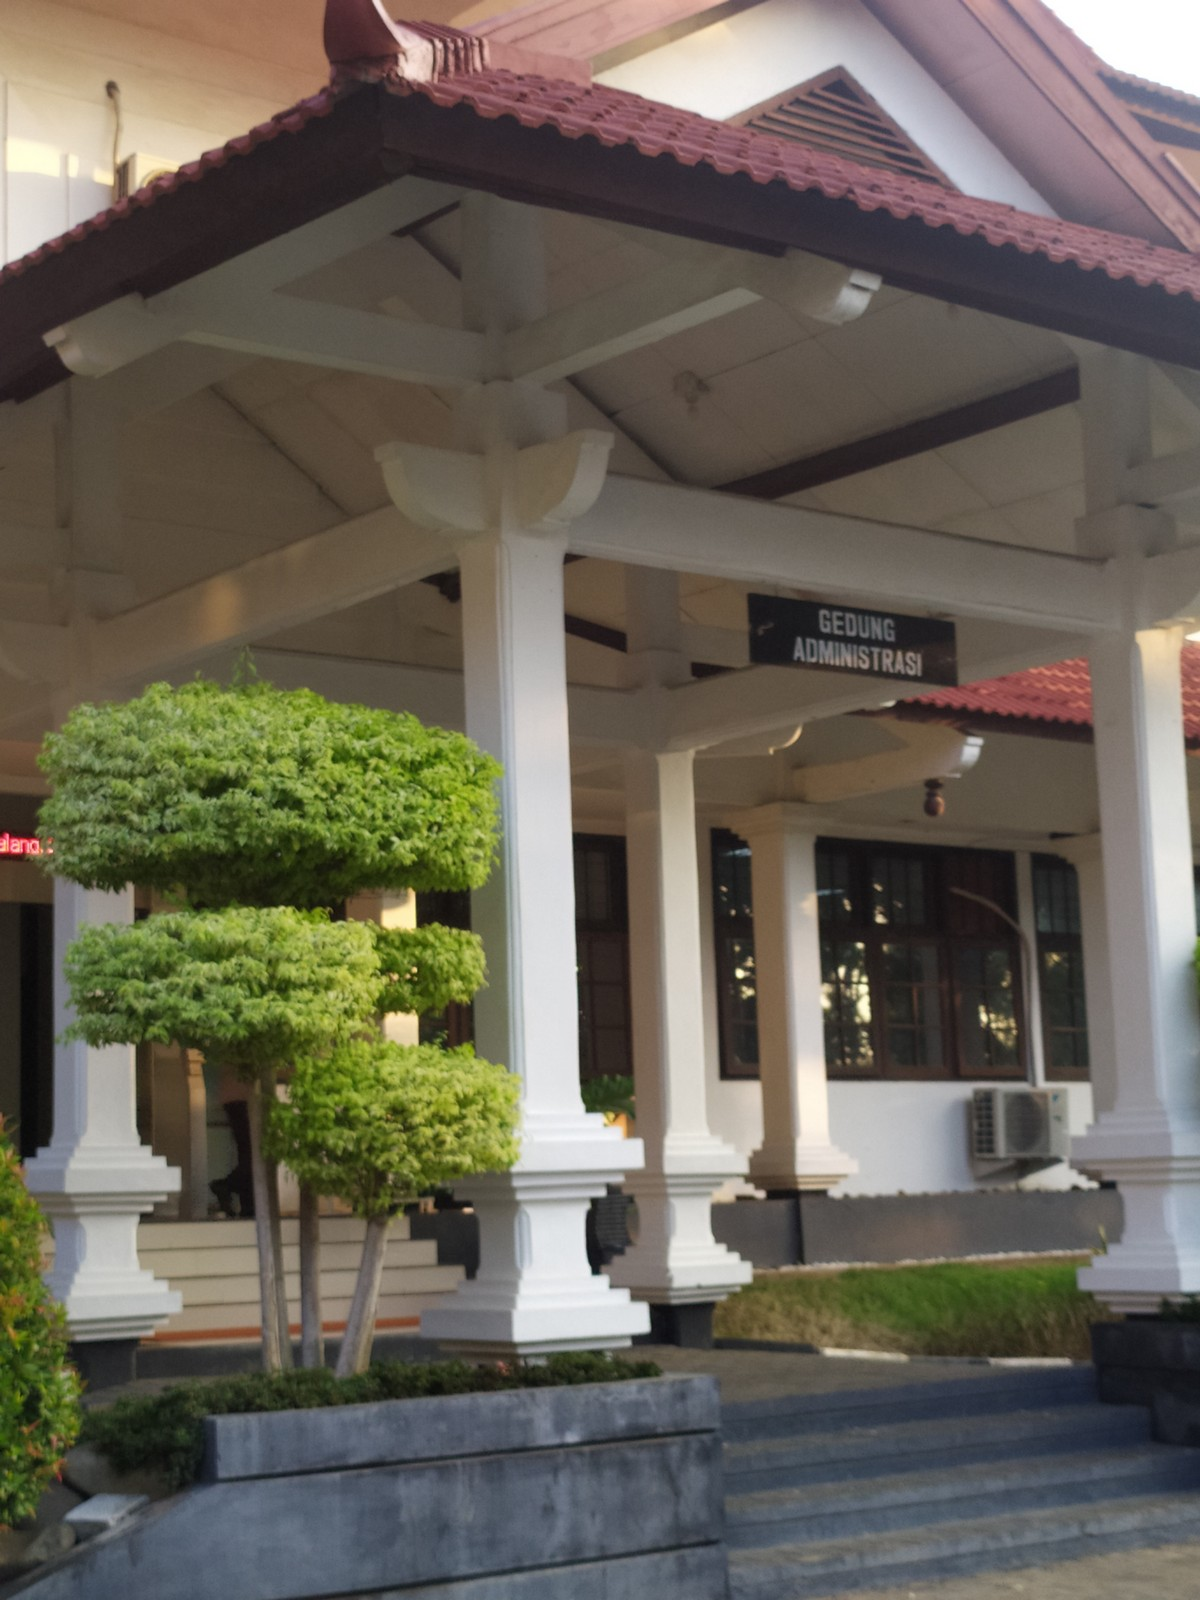concrete beam: (591, 472, 1098, 631), (105, 522, 442, 661)
concrete column: (451, 527, 599, 1117), (1082, 622, 1199, 1105), (616, 743, 724, 1150), (744, 819, 837, 1141)
